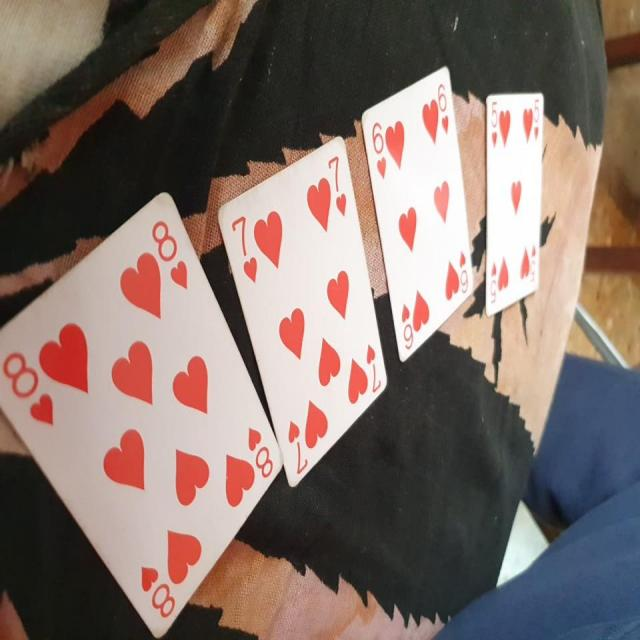5 Hearts: (480, 84, 552, 322)
6 Hearts: (358, 55, 479, 370)
7 Hearts: (212, 133, 392, 498)
8 Hearts: (1, 185, 290, 630)
